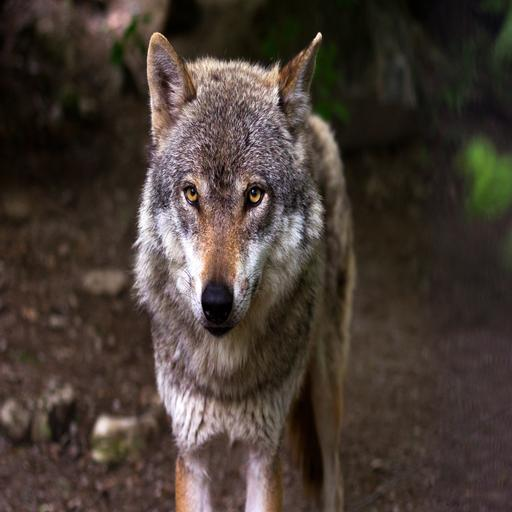Wolf: (129, 24, 366, 512)
